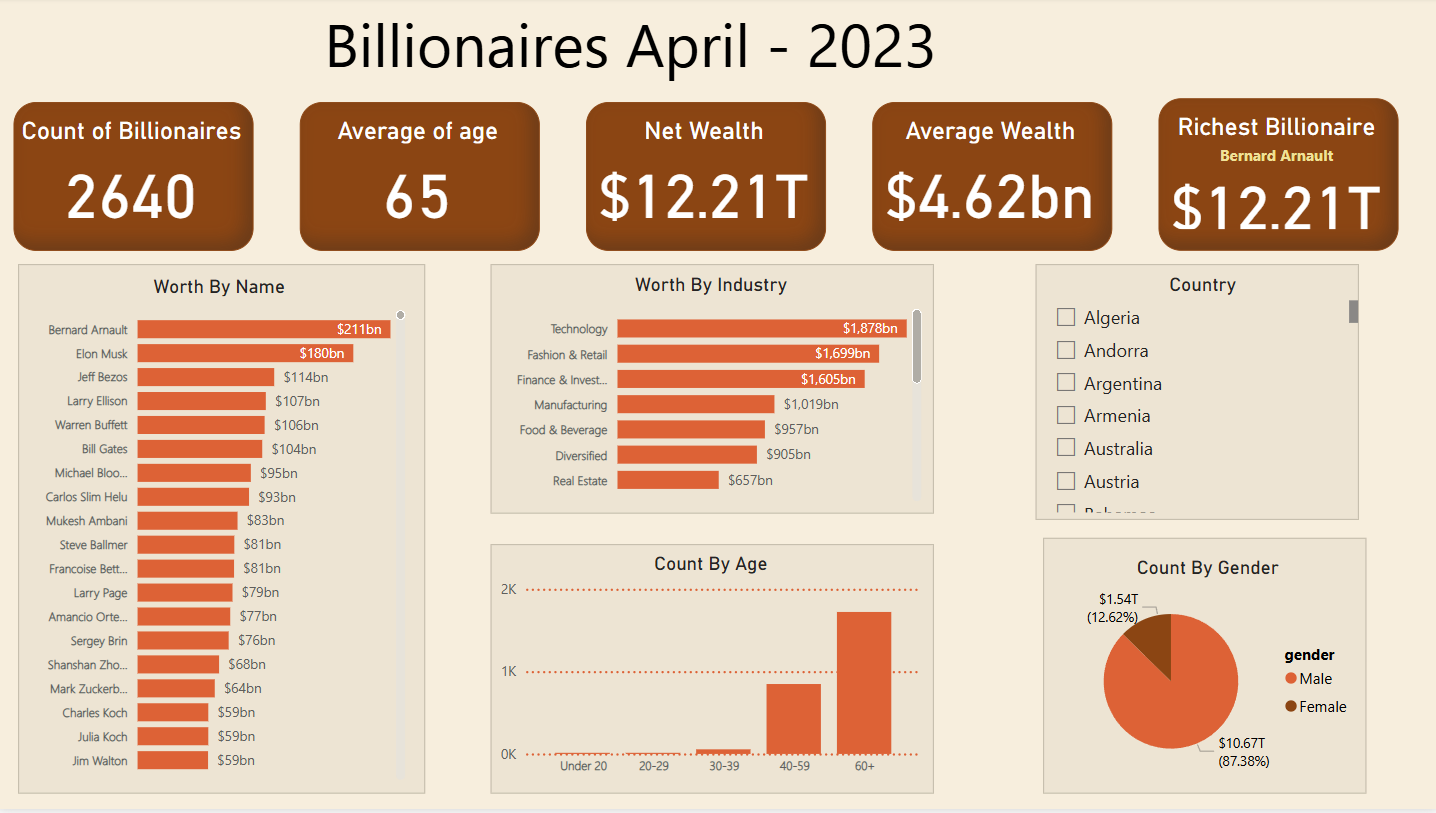

Layout of this report page (visuals, bound fields, positions):
{"tool":"powerbi","page":{"name":"Page 1","canvas":[1280,720],"ordinal":0},"visuals":[{"type":"shape","box":[917.5,232.7,294.7,234.9],"z":0},{"type":"card","title":"Count of Billionaires","fields":{"Values":["cleaned_data.name"]},"box":[15.5,93.2,212.7,131.9],"z":1000},{"type":"textbox","box":[285.9,0,638.2,89.8],"z":2000},{"type":"card","title":"Average of age","fields":{"Values":["cleaned_data.age"]},"box":[269.4,93.2,212.7,131.9],"z":3000},{"type":"card","title":"Net Wealth","fields":{"Values":["cleaned_data.worth"]},"box":[523.3,93.2,212.7,131.9],"z":4000},{"type":"card","title":"Average Wealth","fields":{"Values":["cleaned_data.worth"]},"box":[777.1,93.2,212.7,131.9],"z":5000},{"type":"card","title":"Richest Billionaire","fields":{"Values":["cleaned_data.worth"]},"box":[1030.5,89.8,212.7,135.2],"z":6000},{"type":"shape","box":[15.5,232.7,369,477.6],"z":7000},{"type":"barChart","title":"Worth By Name","fields":{"Category":["cleaned_data.name"],"Y":["cleaned_data.worth"]},"box":[27.7,246,340.2,453.2],"z":8000},{"type":"shape","box":[434.4,232.7,401.1,229.4],"z":9000},{"type":"shape","box":[434.4,480.9,401.1,229.4],"z":10000},{"type":"barChart","title":"Worth By Industry","fields":{"Category":["cleaned_data.industry"],"Y":["cleaned_data.worth"]},"box":[442.1,244.9,383.4,207.2],"z":11000},{"type":"clusteredColumnChart","title":"Count By Age","fields":{"Category":["cleaned_data.Age_Group"],"Y":["cleaned_data.count"]},"box":[442.1,492,383.4,207.2],"z":12000},{"type":"shape","box":[924.1,475.4,294.7,234.9],"z":13000},{"type":"pieChart","title":"Count By Gender","fields":{"Y":["cleaned_data.worth"],"Category":["cleaned_data.gender"]},"box":[936.3,495.3,275.9,203.9],"z":14000},{"type":"slicer","title":"Country","fields":{"Values":["cleaned_data.home_country"]},"box":[927.4,244.9,284.8,217.2],"z":15000}]}

Visuals, with their boxes in screenshot pixels (x1, y1, x2, y2), scaled from the page's 1280x720 canvas onto the 1436x813 screenshot:
shape: {"x1": 1029, "y1": 263, "x2": 1360, "y2": 528}
"Count of Billionaires" card: {"x1": 17, "y1": 105, "x2": 256, "y2": 254}
textbox: {"x1": 321, "y1": 0, "x2": 1037, "y2": 101}
"Average of age" card: {"x1": 302, "y1": 105, "x2": 541, "y2": 254}
"Net Wealth" card: {"x1": 587, "y1": 105, "x2": 826, "y2": 254}
"Average Wealth" card: {"x1": 872, "y1": 105, "x2": 1110, "y2": 254}
"Richest Billionaire" card: {"x1": 1156, "y1": 101, "x2": 1395, "y2": 254}
shape: {"x1": 17, "y1": 263, "x2": 431, "y2": 802}
"Worth By Name" barChart: {"x1": 31, "y1": 278, "x2": 413, "y2": 790}
shape: {"x1": 487, "y1": 263, "x2": 937, "y2": 522}
shape: {"x1": 487, "y1": 543, "x2": 937, "y2": 802}
"Worth By Industry" barChart: {"x1": 496, "y1": 277, "x2": 926, "y2": 510}
"Count By Age" clusteredColumnChart: {"x1": 496, "y1": 556, "x2": 926, "y2": 790}
shape: {"x1": 1037, "y1": 537, "x2": 1367, "y2": 802}
"Count By Gender" pieChart: {"x1": 1050, "y1": 559, "x2": 1360, "y2": 790}
"Country" slicer: {"x1": 1040, "y1": 277, "x2": 1360, "y2": 522}
